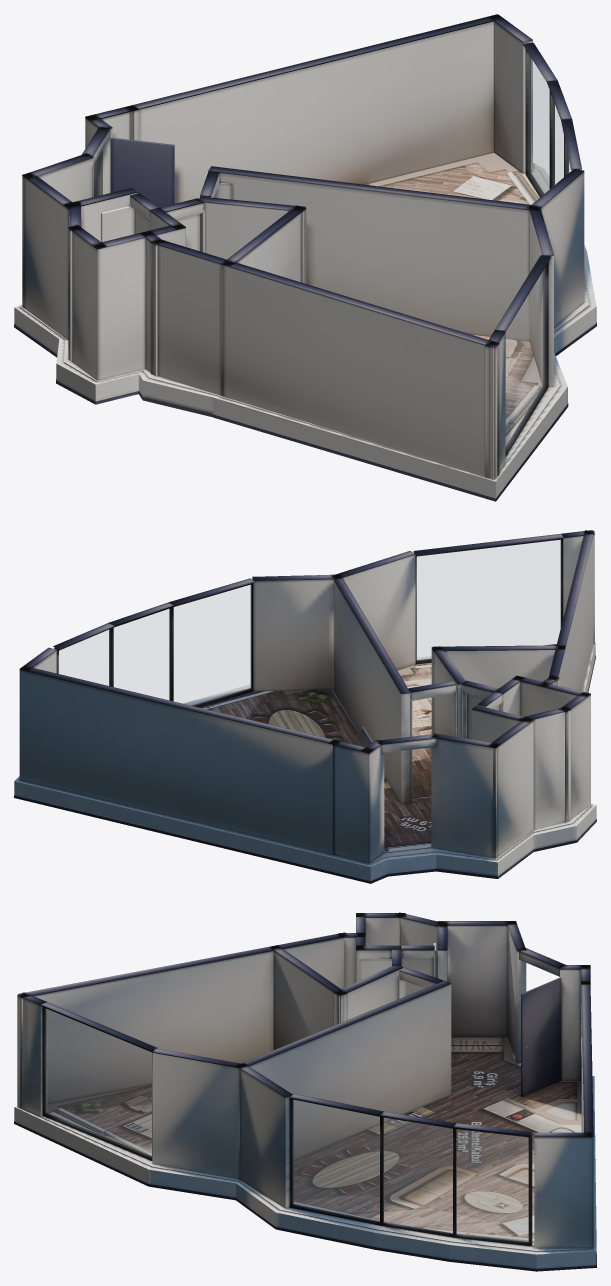
The picture shows the model from 3 angles, top to bottom: view 1: azimuth 30°, elevation 25°; view 2: azimuth 150°, elevation 25°; view 3: azimuth 270°, elevation 25°; orthographic projection. The views are drawn at different scales.
Parts seen in each view (by area): view 1: plan, glass3_m, glass0_m, glass1_m; view 2: plan, glass3_m, glass2_m, glass1_m, glass0_m; view 3: plan, glass3_m, glass2_m, glass0_m, glass1_m.
Part boxes in pixels (x1,y1,x2,y2): plan: (14, 14, 596, 501); glass3_m: (506, 267, 545, 449); glass0_m: (528, 54, 549, 194); glass1_m: (552, 98, 563, 186); plan: (14, 530, 596, 883); glass3_m: (417, 540, 560, 660); glass2_m: (174, 584, 251, 705); glass1_m: (114, 609, 169, 700); glass0_m: (59, 629, 109, 685); plan: (14, 912, 596, 1271); glass3_m: (45, 1008, 151, 1157); glass2_m: (293, 1100, 379, 1221); glass0_m: (456, 1129, 528, 1242); glass1_m: (383, 1117, 452, 1233).
Bounding box in the file's own units: 10.15 × 2.62 × 10.69.
2 materials, 1 textured.
